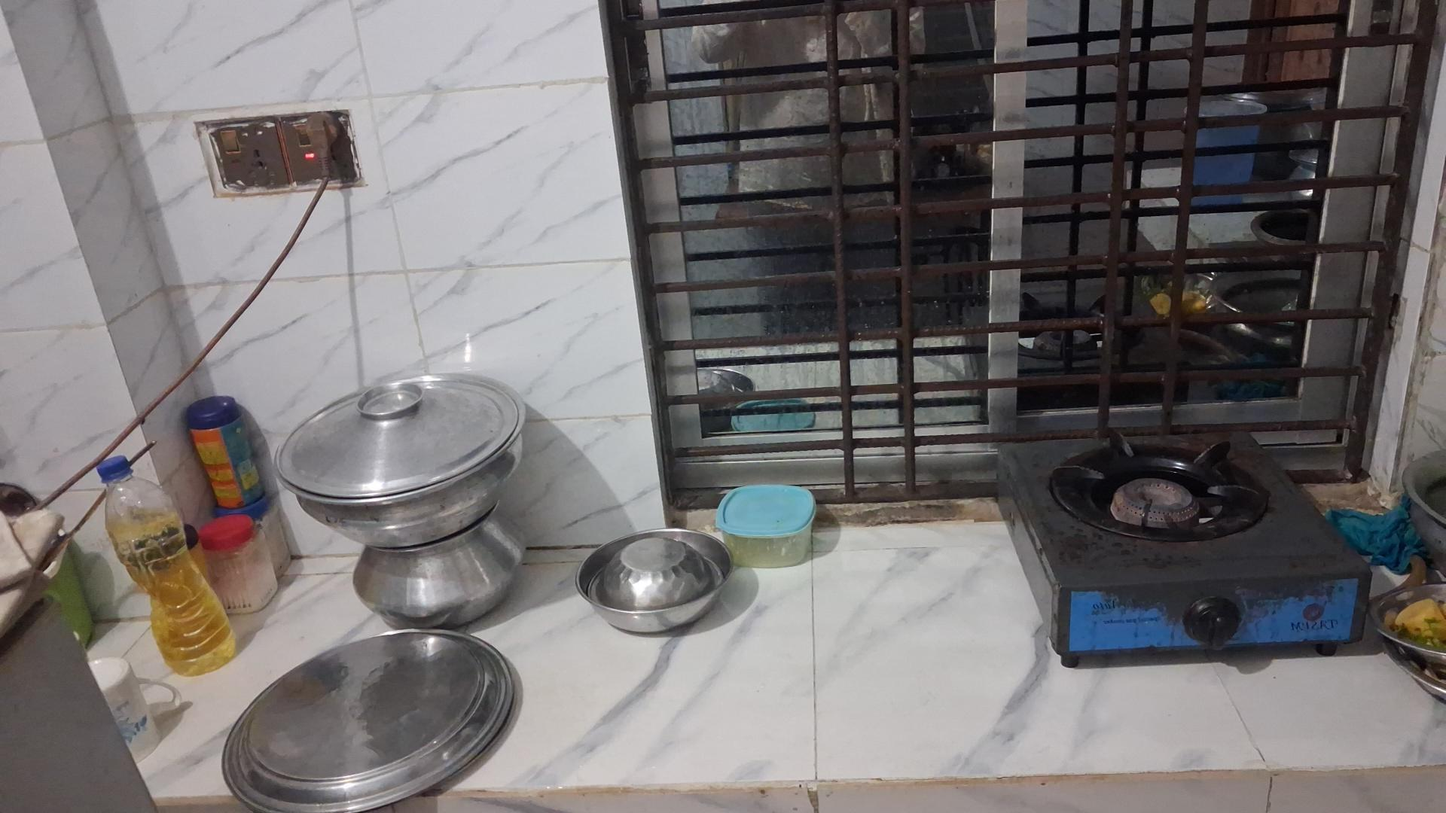Bottle: (95, 462, 239, 672)
Bowl: (576, 531, 728, 633)
Jar: (716, 484, 815, 569), (188, 401, 261, 510), (197, 518, 279, 601)
Plate: (220, 629, 521, 813)
Pot: (279, 369, 521, 548), (351, 531, 529, 621)
